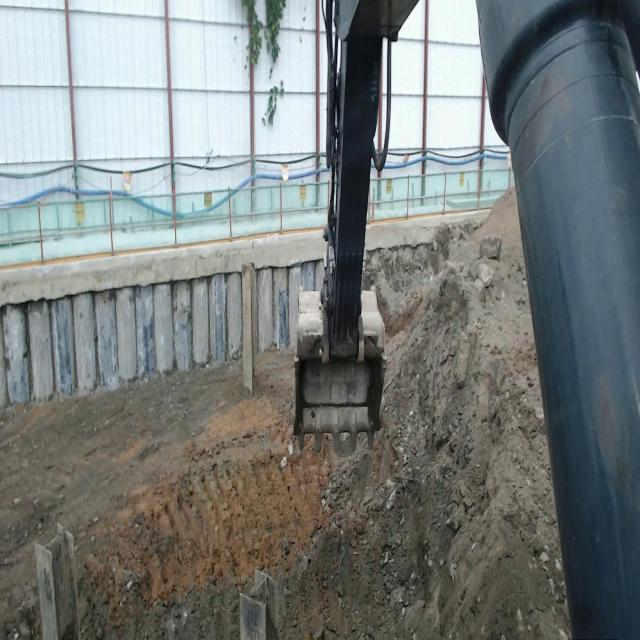cement: (0, 231, 324, 307), (366, 210, 489, 251)
red-sand: (0, 191, 570, 639)
